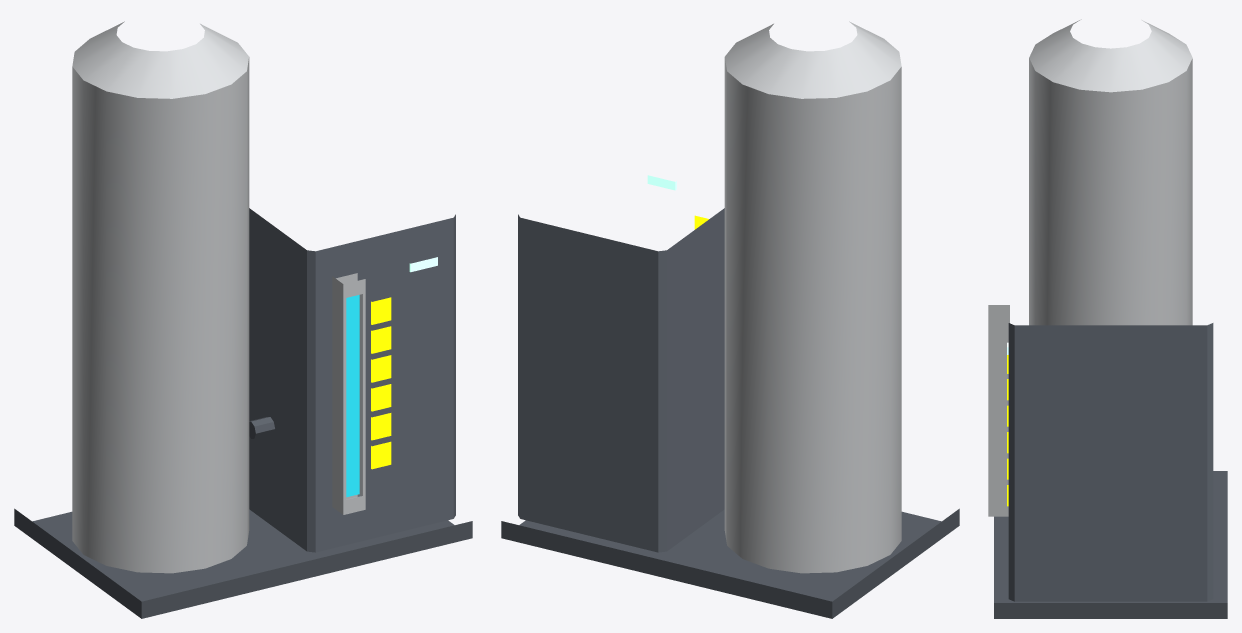
Rendered from ext_hydro_pump_tank.glb.
The picture shows the model from 3 angles, left to right: view 1: azimuth 30°, elevation 25°; view 2: azimuth 150°, elevation 25°; view 3: azimuth 270°, elevation 25°; orthographic projection. The views are drawn at different scales.
Visible parts, largest first — view 1: Tank, Cabinet, Skid, Gauge_Frame, Gauge_Glass, WaterLevel_Fill; view 2: Tank, Cabinet, Skid; view 3: Cabinet, Tank, Skid, Gauge_Frame.
Boxes of the visible parts, x1,y1,x2,y2 form: Tank: (72,21,249,573); Cabinet: (249,208,455,552); Skid: (14,508,472,618); Gauge_Frame: (332,273,365,514); Gauge_Glass: (346,294,361,499); WaterLevel_Fill: (346,295,359,497); Tank: (724,21,901,573); Cabinet: (518,208,724,552); Skid: (501,508,959,618); Cabinet: (1008,323,1213,601); Tank: (1029,19,1192,325); Skid: (994,471,1227,618); Gauge_Frame: (988,305,1009,516).
Bounding box in the file's own units: 1.2 × 1.8 × 0.82.
